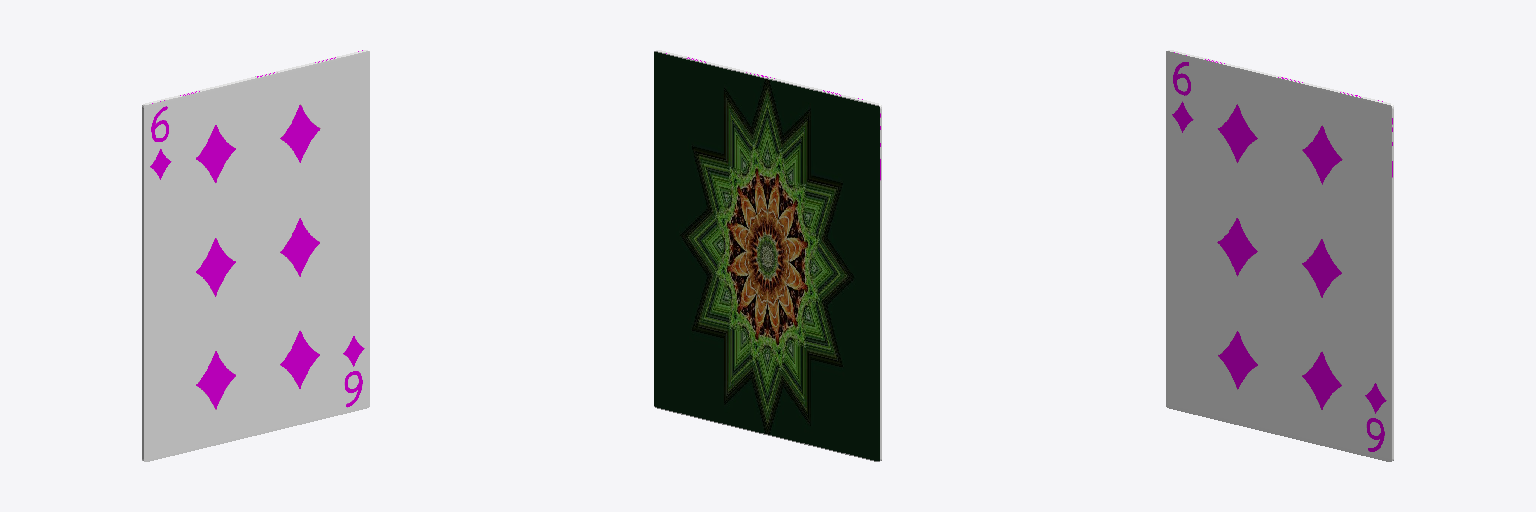
3 renders of one model, left to right at view 1: azimuth 30°, elevation 25°; view 2: azimuth 150°, elevation 25°; view 3: azimuth 330°, elevation 25°, orthographic.
Parts seen in each view (by area): view 1: Cube.001; view 2: Cube.001; view 3: Cube.001.
Boxes of the visible parts, box(x1,y1,x2,y2) form: Cube.001: box(142, 50, 369, 461); Cube.001: box(654, 50, 881, 461); Cube.001: box(1166, 50, 1393, 461).
Size of the model in its own units: 2.9 by 4.37 by 0.0459.
2 materials, 2 textured.